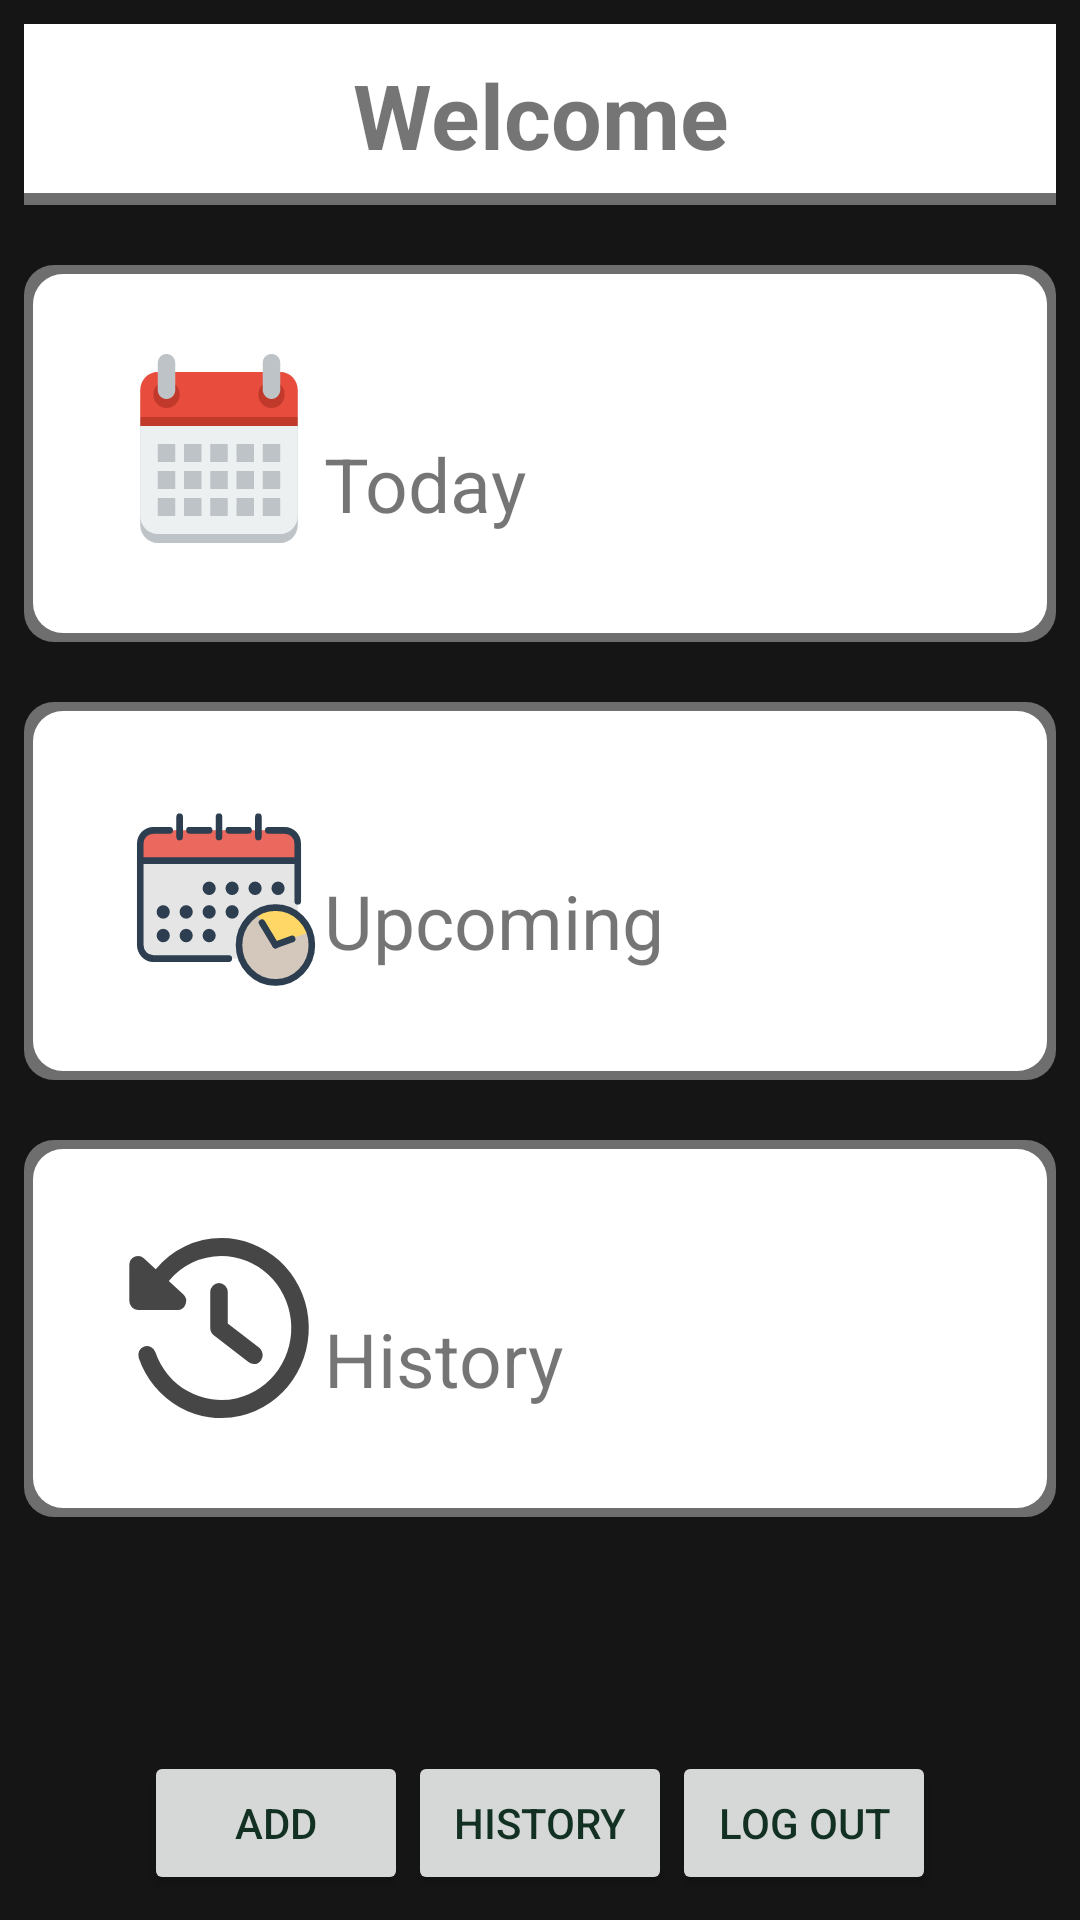

Where icons sit on this 1080 x 1920 app screen, as (x1, y1, x2, y2):
iconfinder calendar: (140, 354, 298, 543)
